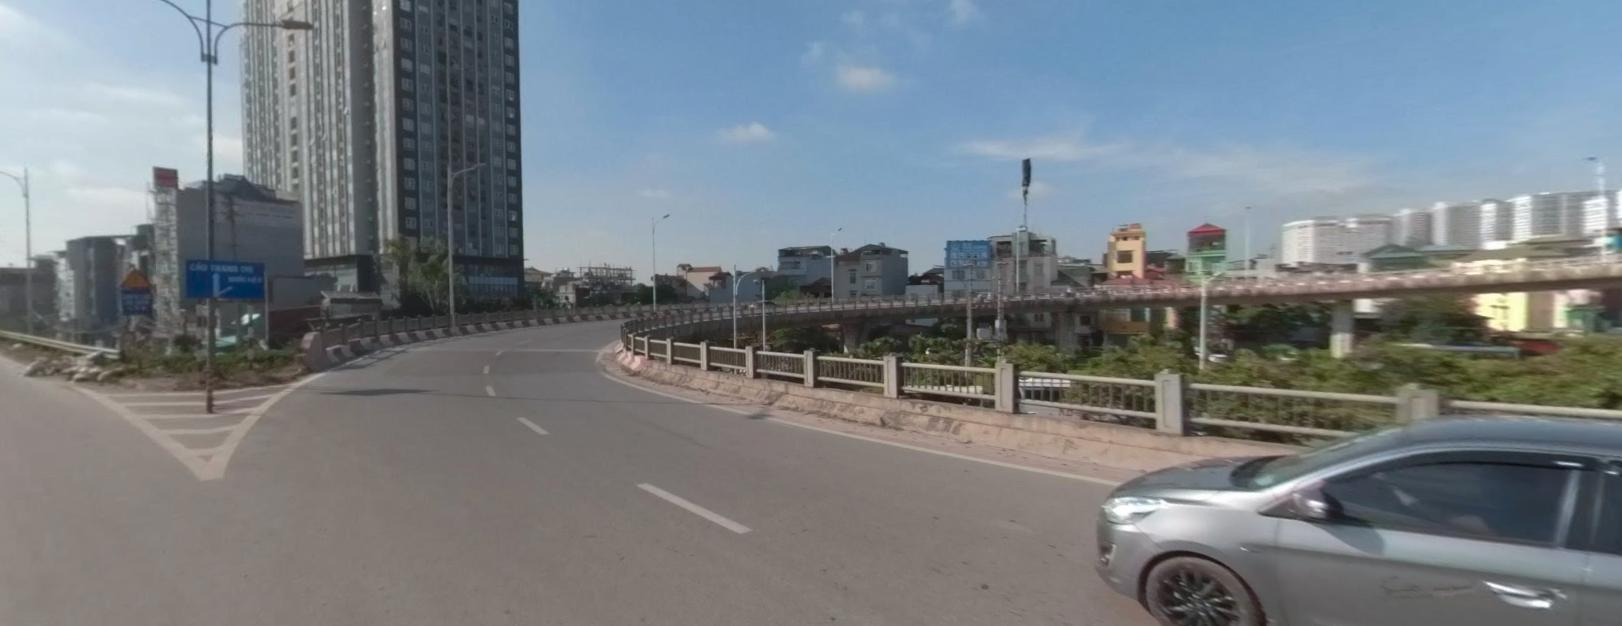Nguy hiem: (119, 267, 150, 286)
